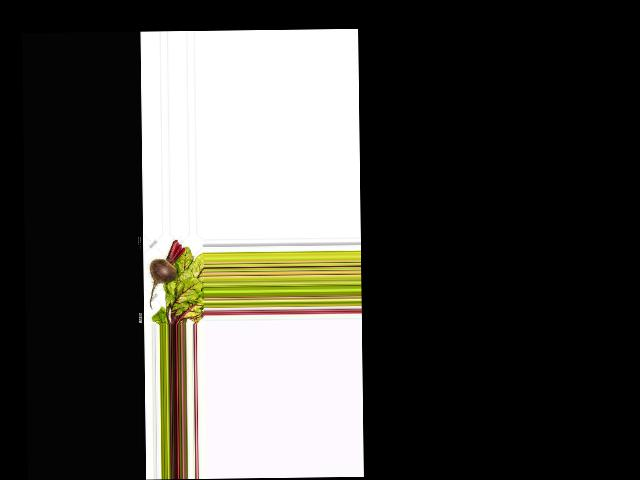beet: (148, 239, 185, 309)
